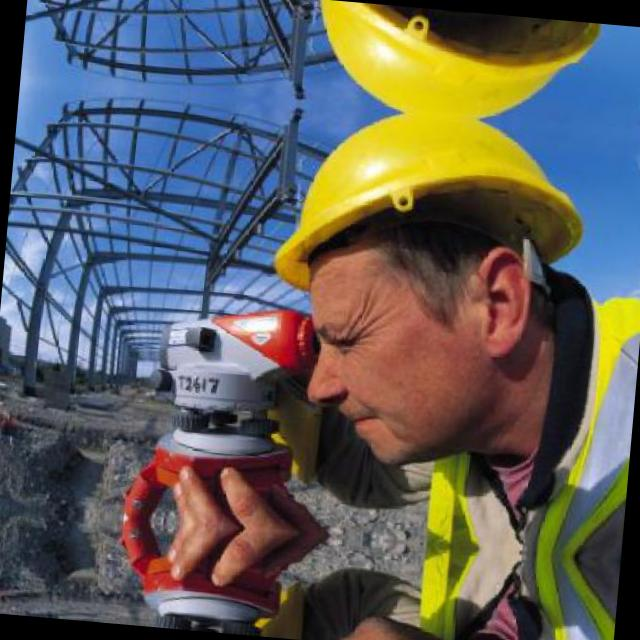helmet: (245, 100, 598, 482), (276, 0, 608, 128)
